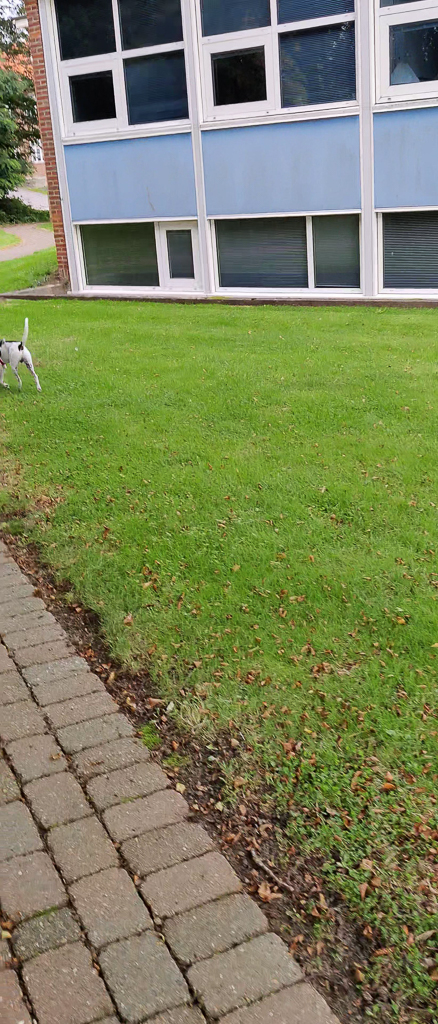Dog: (0, 314, 46, 400)
